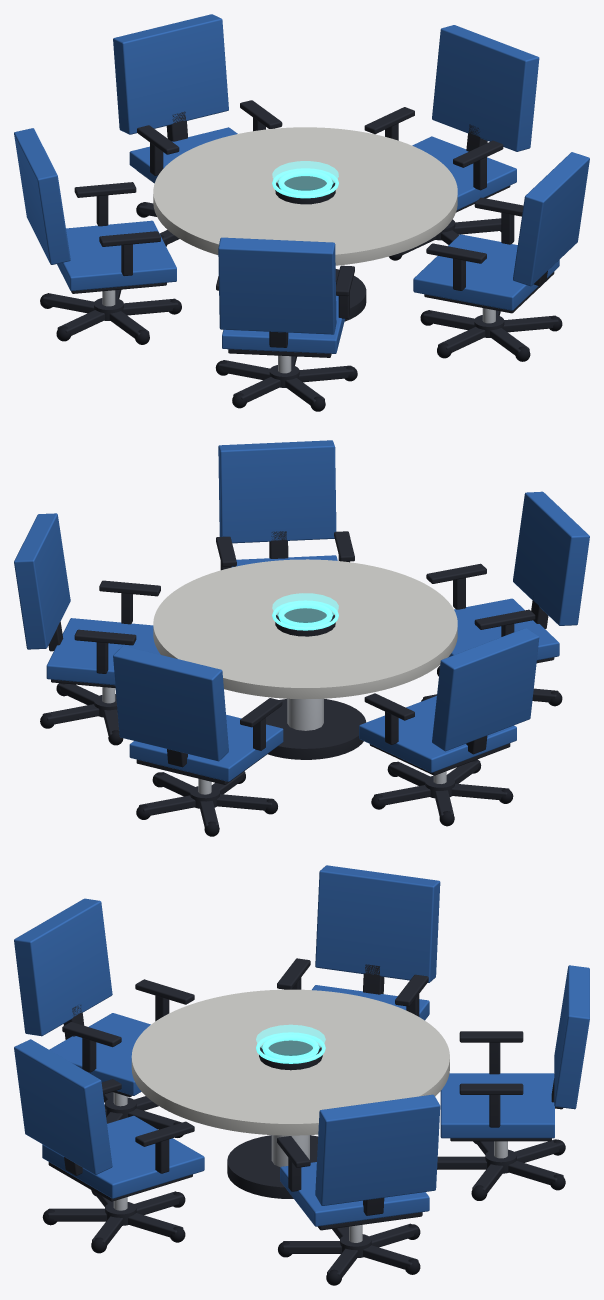
File: meeting-table.glb
The picture shows the model from 3 angles, top to bottom: view 1: azimuth 30°, elevation 25°; view 2: azimuth 150°, elevation 25°; view 3: azimuth 270°, elevation 25°; orthographic projection. The views are drawn at different scales.
Visible parts, largest first — view 1: meeting-table-solid, table-holo-1-rotor-holo, meeting-table-glow, meeting-table-metal; view 2: meeting-table-solid, table-holo-1-rotor-holo, meeting-table-metal, meeting-table-glow; view 3: meeting-table-solid, table-holo-1-rotor-holo, meeting-table-metal, meeting-table-glow, table-holo-1-rotor-glow.
Part boxes in pixels (x1,y1,x2,y2): meeting-table-solid: (14, 14, 589, 411); table-holo-1-rotor-holo: (272, 161, 338, 193); meeting-table-glow: (278, 170, 332, 194); meeting-table-metal: (102, 290, 495, 373); meeting-table-solid: (14, 440, 589, 836); table-holo-1-rotor-holo: (272, 593, 338, 625); meeting-table-metal: (102, 687, 446, 794); meeting-table-glow: (278, 602, 332, 627); meeting-table-solid: (14, 865, 589, 1285); table-holo-1-rotor-holo: (256, 1024, 325, 1058); meeting-table-metal: (113, 1092, 507, 1242); meeting-table-glow: (262, 1034, 318, 1060); table-holo-1-rotor-glow: (256, 1032, 325, 1063).
Bounding box in the file's own units: 1.52 × 0.5041 × 1.45.
